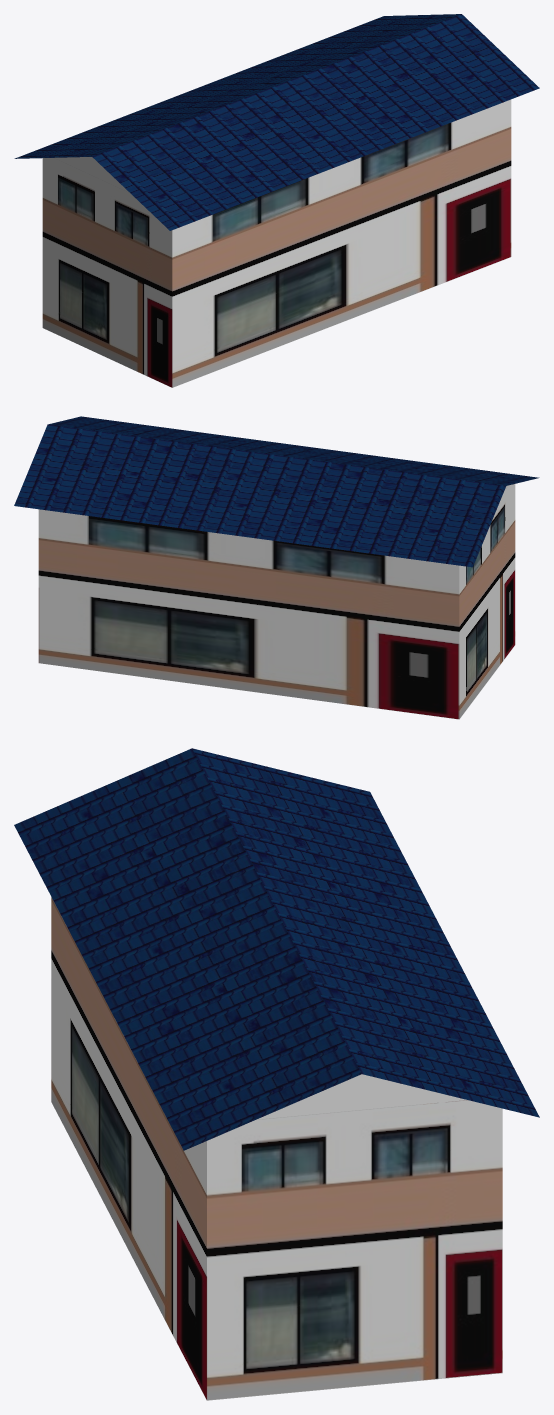
3 views of the same model, one above another, from view 1: azimuth 30°, elevation 25°; view 2: azimuth 150°, elevation 25°; view 3: azimuth 270°, elevation 25° (orthographic). The views are drawn at different scales.
Visible parts, largest first — view 1: CityEngineMaterial_5_m, CityEngineMaterial_6_m, CityEngineMaterial_3_m; view 2: CityEngineMaterial_5_m, CityEngineMaterial_6_m; view 3: CityEngineMaterial_6_m, CityEngineMaterial_5_m, CityEngineMaterial_3_m.
Part boxes in pixels (x1=…): CityEngineMaterial_5_m: x1=42, y1=99, x2=511, y2=387; CityEngineMaterial_6_m: x1=14, y1=14, x2=539, y2=230; CityEngineMaterial_3_m: x1=55, y1=157, x2=129, y2=192; CityEngineMaterial_5_m: x1=38, y1=484, x2=515, y2=719; CityEngineMaterial_6_m: x1=14, y1=416, x2=539, y2=567; CityEngineMaterial_6_m: x1=14, y1=748, x2=539, y2=1150; CityEngineMaterial_5_m: x1=51, y1=897, x2=502, y2=1400; CityEngineMaterial_3_m: x1=257, y1=1074, x2=466, y2=1119.
Bounding box in the file's own units: 25.82 × 10.94 × 15.99.
